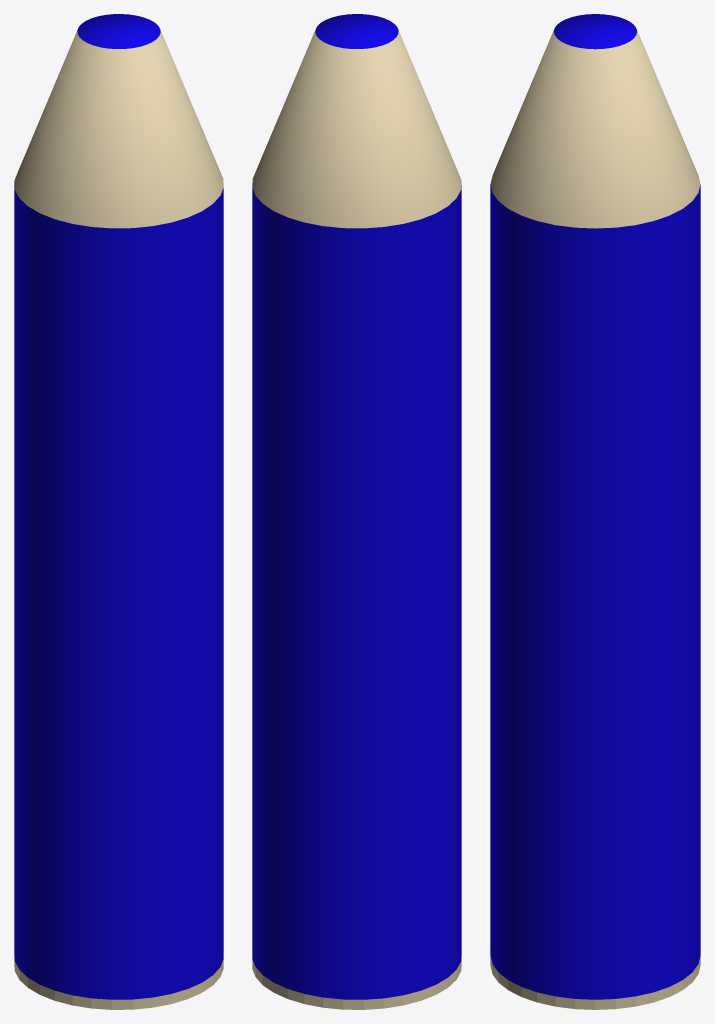
The model's file is pen_no_tip.fbx.
The picture shows the model from 3 angles, left to right: view 1: azimuth 30°, elevation 25°; view 2: azimuth 150°, elevation 25°; view 3: azimuth 270°, elevation 25°; orthographic projection.
Visible parts, largest first — view 1: Cylinder.001; view 2: Cylinder.001; view 3: Cylinder.001.
Part boxes in pixels (box(x1,y1,x2,y2)): Cylinder.001: box(14, 14, 223, 1009); Cylinder.001: box(252, 14, 461, 1009); Cylinder.001: box(490, 14, 700, 1009).
Bounding box in the file's own units: 200 × 981 × 200.
